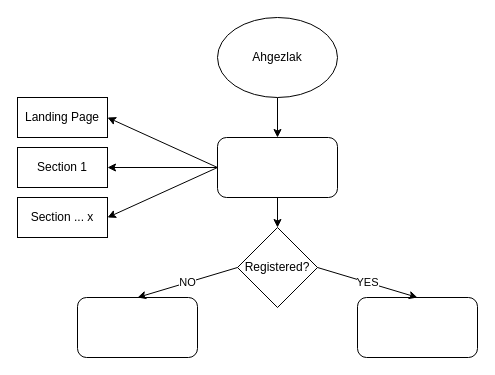
Image size: 495x375. Some labels were removed from this diagram. Here are the shapes that lost their labels. From the top down, the box of each, then its label:
(216, 136, 338, 198): Marketing Page
(76, 296, 198, 358): Registration
(356, 296, 478, 358): LOG IN
